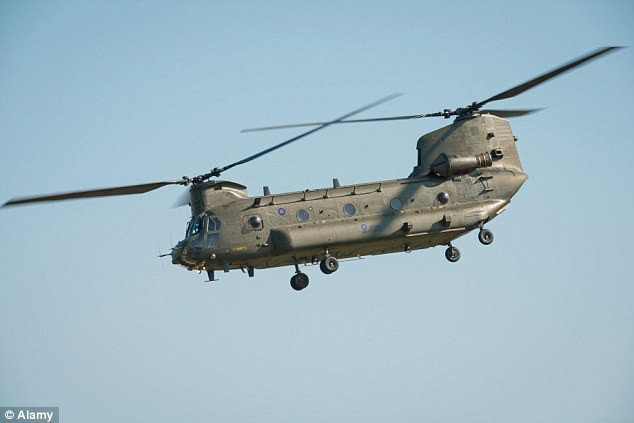chinook: (98, 55, 615, 290)
